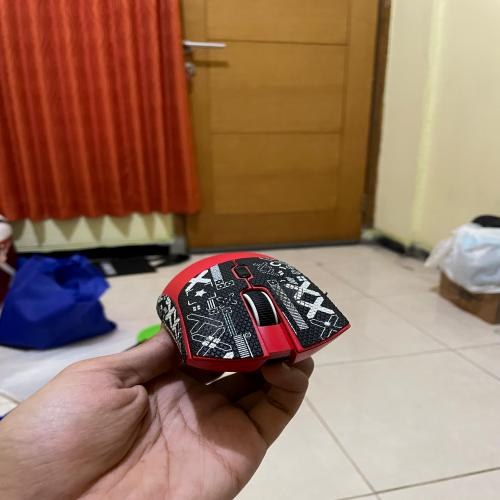Mouse: (146, 240, 372, 384)
